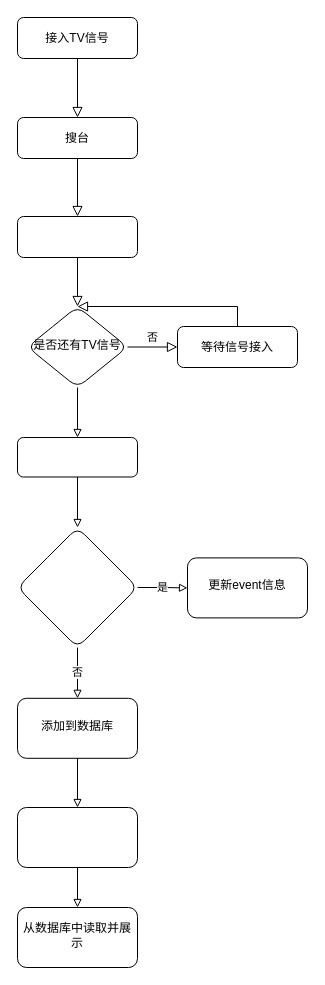
Some shapes in this 325 by 985 pixel diagram are drawn without their labels. Here are the shapes that lost their labels. From the top down, the centre of each, then its label:
At [77,237]: "频道信息存入数据库".
At [77,456]: "解析epg信息".
At [77,587]: "数据库中已存在event信息".
At [77,837]: "用户打开epg界面".
